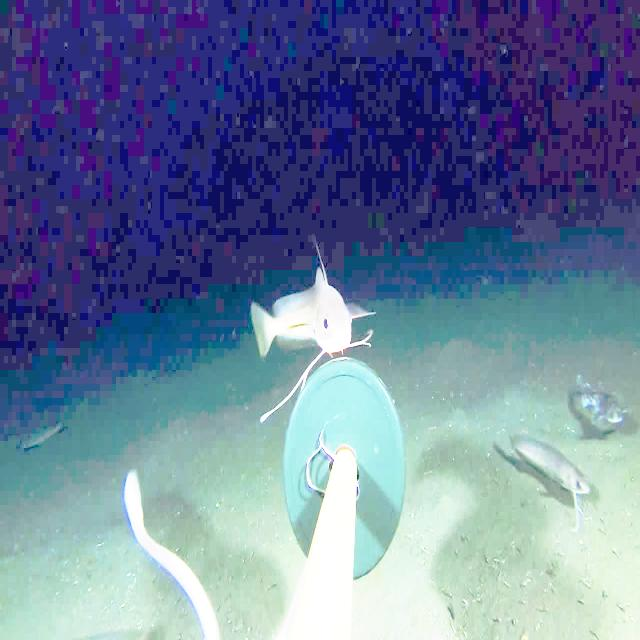eel: (102, 451, 301, 639)
fish: (248, 268, 372, 390), (483, 411, 601, 539), (6, 409, 68, 468), (568, 375, 630, 434)
pole: (285, 379, 396, 567)
